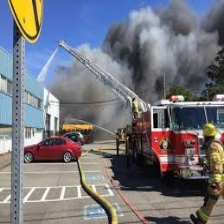smoke: (60, 13, 199, 103)
